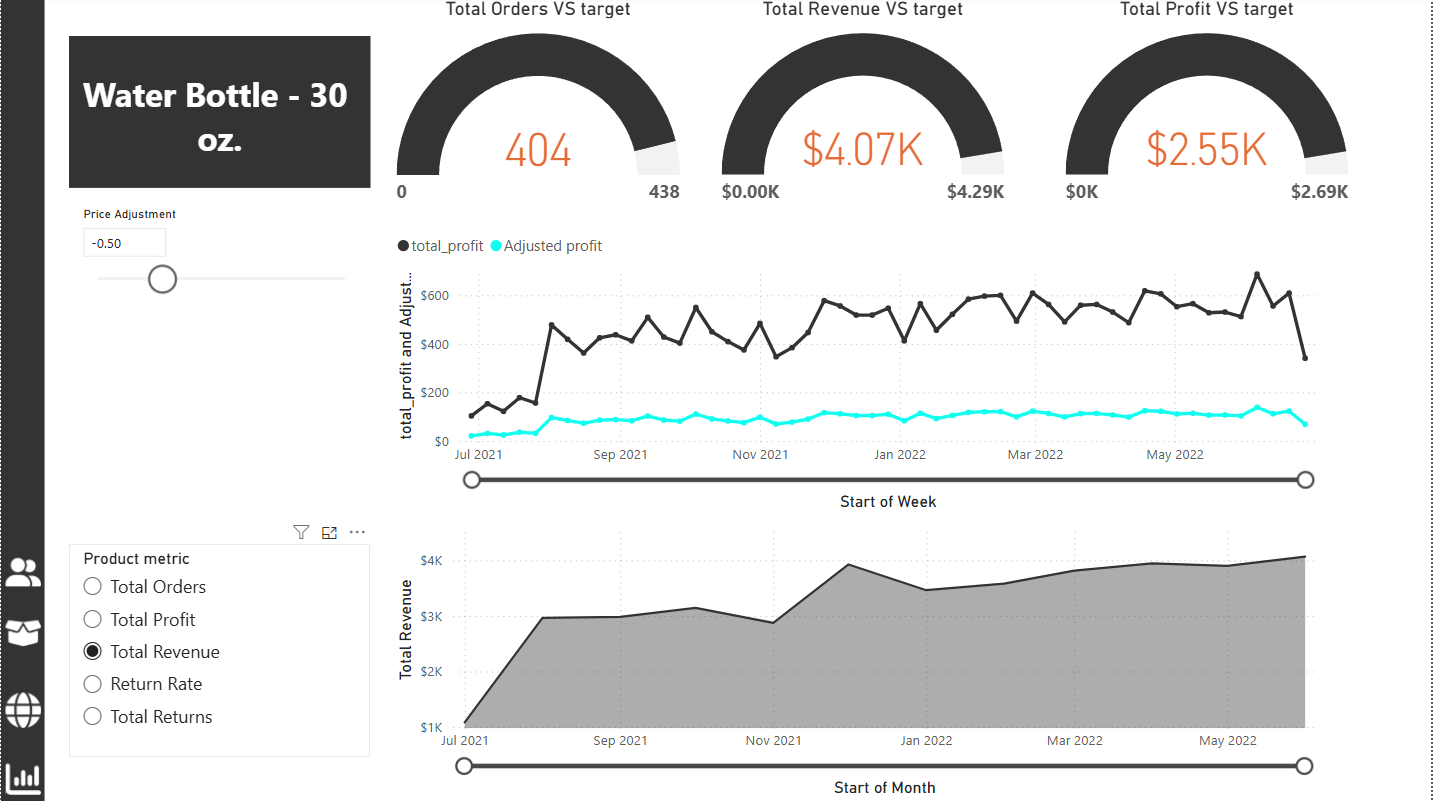

Layout of this report page (visuals, bound fields, positions):
{"tool":"powerbi","page":{"name":"Product Detail","canvas":[1280,720],"ordinal":2},"visuals":[{"type":"shape","box":[0,0,39.2,720.3],"z":0},{"type":"actionButton","box":[0,680.1,39.8,39.8],"z":0,"group":"g1"},{"type":"gauge","title":"Total Orders VS target","fields":{"MaxValue":["MeasureTable.ordertarget"],"Y":["MeasureTable.Total_orders"]},"box":[349.6,0,263.7,204],"z":2},{"type":"gauge","title":"Total Revenue VS target","fields":{"MaxValue":["MeasureTable.revenue_target"],"Y":["MeasureTable.total_revenue"]},"box":[640,0,263.1,203.4],"z":3},{"type":"gauge","title":"Total Profit VS target","fields":{"MaxValue":["MeasureTable.proifittarget"],"Y":["MeasureTable.total_profit"]},"box":[948.6,0,263.1,203.4],"z":4},{"type":"lineChart","title":"Weekly Trending","fields":{"Category":["Calendar Lookup.Year Hierarchy.Start of Year","Calendar Lookup.Year Hierarchy.Start of Month","Calendar Lookup.Year Hierarchy.Date","Calendar Lookup.Year Hierarchy.Start of Week"],"Y":["MeasureTable.total_profit","MeasureTable.Adjusted profit"]},"box":[349.6,202.8,849.6,262.5],"z":5},{"type":"areaChart","title":"Weekly Trending","fields":{"Category":["Calendar Lookup.Year Hierarchy.Start of Year","Calendar Lookup.Year Hierarchy.Start of Month","Calendar Lookup.Year Hierarchy.Date","Calendar Lookup.Year Hierarchy.Start of Week"],"Y":["MeasureTable.total_revenue"]},"box":[349.6,465.2,849.6,255],"z":6},{"type":"card","fields":{"Values":["Min(Product Lookup.ProductName)"]},"box":[61,34.8,269.9,135.6],"z":7},{"type":"group","id":"g1","title":"Navigationbuttons","box":[0,494.8,44.8,225.2],"z":8},{"type":"slicer","fields":{"Values":["Price Adjustment .Price Adjustment "]},"box":[61,182.9,269.9,108.2],"z":9},{"type":"slicer","fields":{"Values":["Product metric.Product metric"]},"box":[61,490.1,269.9,190.3],"z":10},{"type":"actionButton","box":[0,549.5,39.8,39.8],"z":1000,"group":"g1"},{"type":"actionButton","box":[0,618,44.8,39.8],"z":2000,"group":"g1"},{"type":"actionButton","box":[0,494.8,39.8,39.8],"z":3000,"group":"g1"}]}

Visuals, with their boxes on the page's 1280x720 design canvas (x1, y1, x2, y2). These are canvas units, not pixel positions in the 1433x801 screenshot, which may show the page scaled, cropped or inside an application window:
shape: detection(0, 0, 39, 720)
actionButton: detection(0, 680, 40, 720)
"Total Orders VS target" gauge: detection(350, 0, 613, 204)
"Total Revenue VS target" gauge: detection(640, 0, 903, 203)
"Total Profit VS target" gauge: detection(949, 0, 1212, 203)
"Weekly Trending" lineChart: detection(350, 203, 1199, 465)
"Weekly Trending" areaChart: detection(350, 465, 1199, 720)
card - Min(Product Lookup.ProductName): detection(61, 35, 331, 170)
"Navigationbuttons" group: detection(0, 495, 45, 720)
slicer - Price Adjustment .Price Adjustment : detection(61, 183, 331, 291)
slicer - Product metric.Product metric: detection(61, 490, 331, 680)
actionButton: detection(0, 550, 40, 589)
actionButton: detection(0, 618, 45, 658)
actionButton: detection(0, 495, 40, 535)
